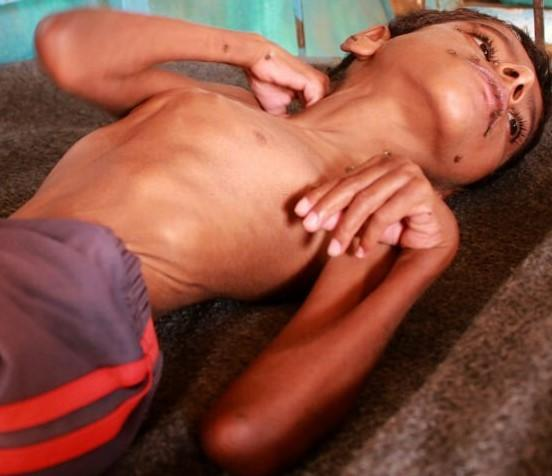Stunting: (363, 0, 549, 189)
